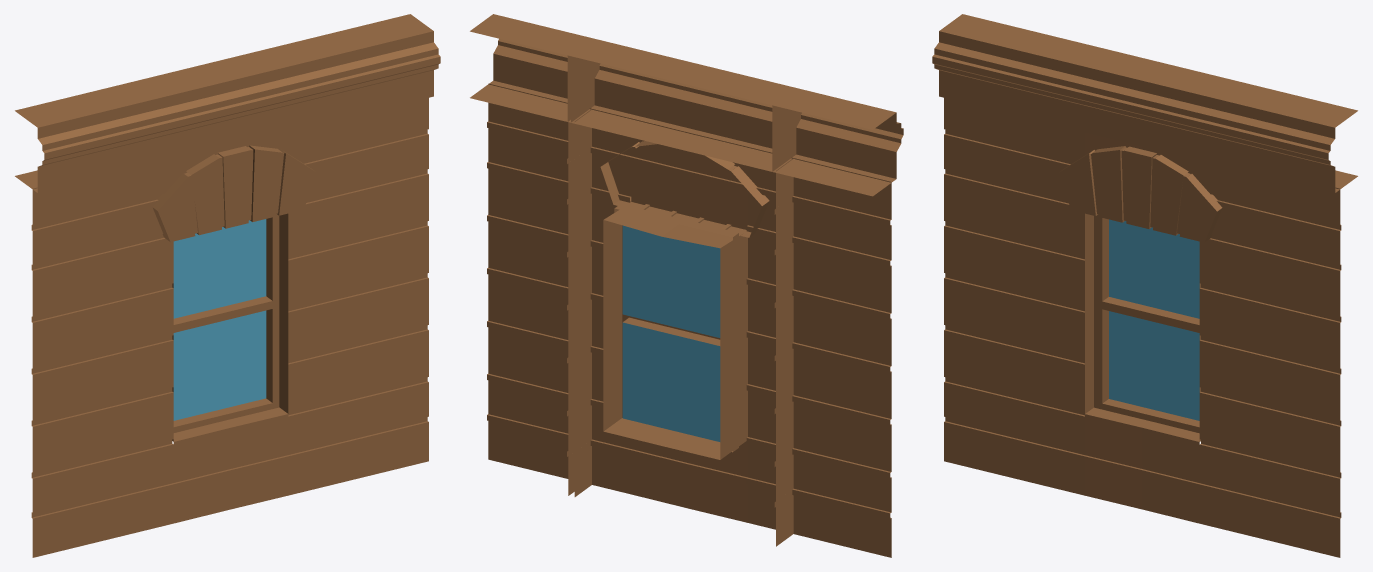
The model's file is O_V_FacadeType2_Down.fbx.
The picture shows the model from 3 angles, left to right: view 1: azimuth 30°, elevation 25°; view 2: azimuth 150°, elevation 25°; view 3: azimuth 330°, elevation 25°; orthographic projection.
Visible parts, largest first — view 1: O_FacadeType2_Down; view 2: O_FacadeType2_Down; view 3: O_FacadeType2_Down.
Boxes of the visible parts, box(x1,y1,x2,y2) form: O_FacadeType2_Down: box(15, 14, 440, 557); O_FacadeType2_Down: box(470, 14, 903, 557); O_FacadeType2_Down: box(932, 14, 1357, 557).
Size of the model in its own units: 6.21 by 6.5 by 1.07.
